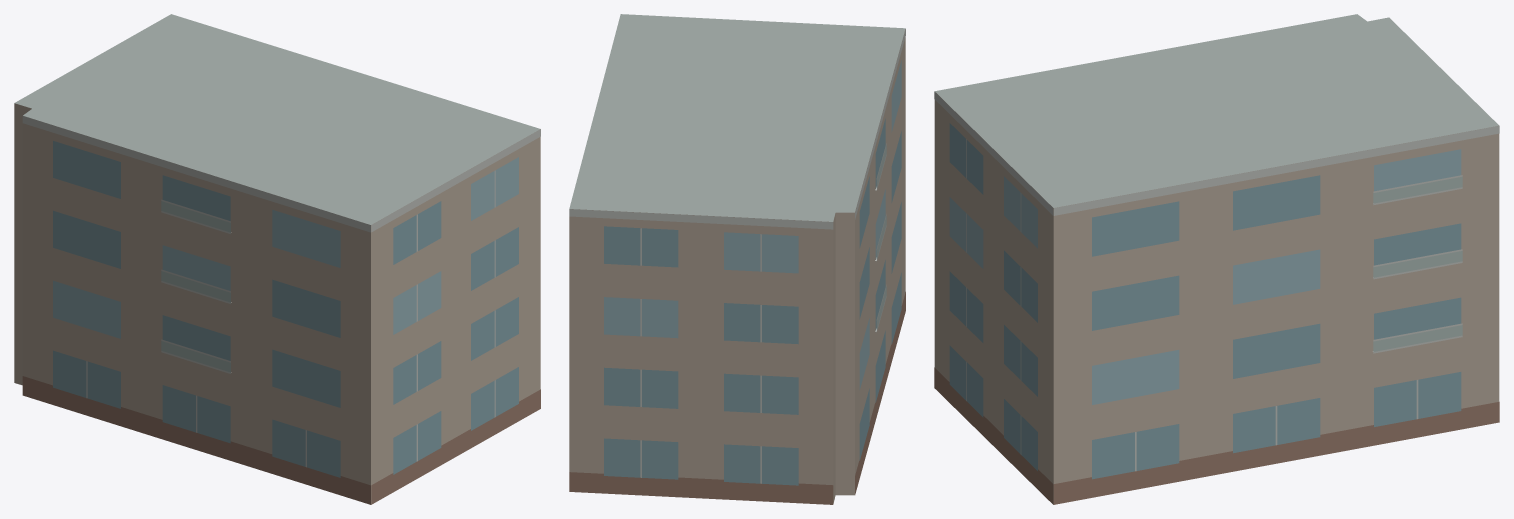
File: survey-upis-32679461.glb
3 views of the same model, side by side, from view 1: azimuth 30°, elevation 25°; view 2: azimuth 150°, elevation 25°; view 3: azimuth 270°, elevation 25° (orthographic). The views are drawn at different scales.
Parts seen in each view (by area): view 1: survey-upis-32679461.tmp; view 2: survey-upis-32679461.tmp; view 3: survey-upis-32679461.tmp.
Boxes of the visible parts, x1,y1,x2,y2 form: survey-upis-32679461.tmp: (14, 14, 540, 504); survey-upis-32679461.tmp: (569, 14, 905, 504); survey-upis-32679461.tmp: (934, 14, 1499, 504).
Size of the model in its own units: 12.77 by 9.1 by 15.71.
